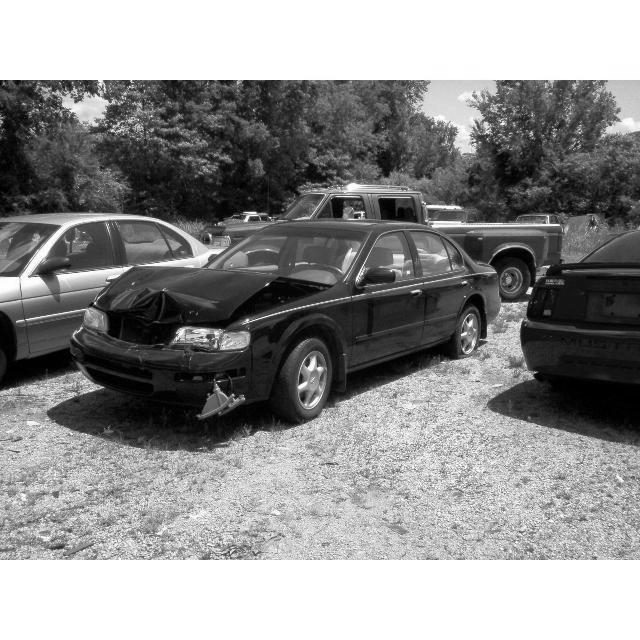bonnet-dent: (101, 261, 281, 313)
front-bumper-dent: (93, 350, 255, 411)
